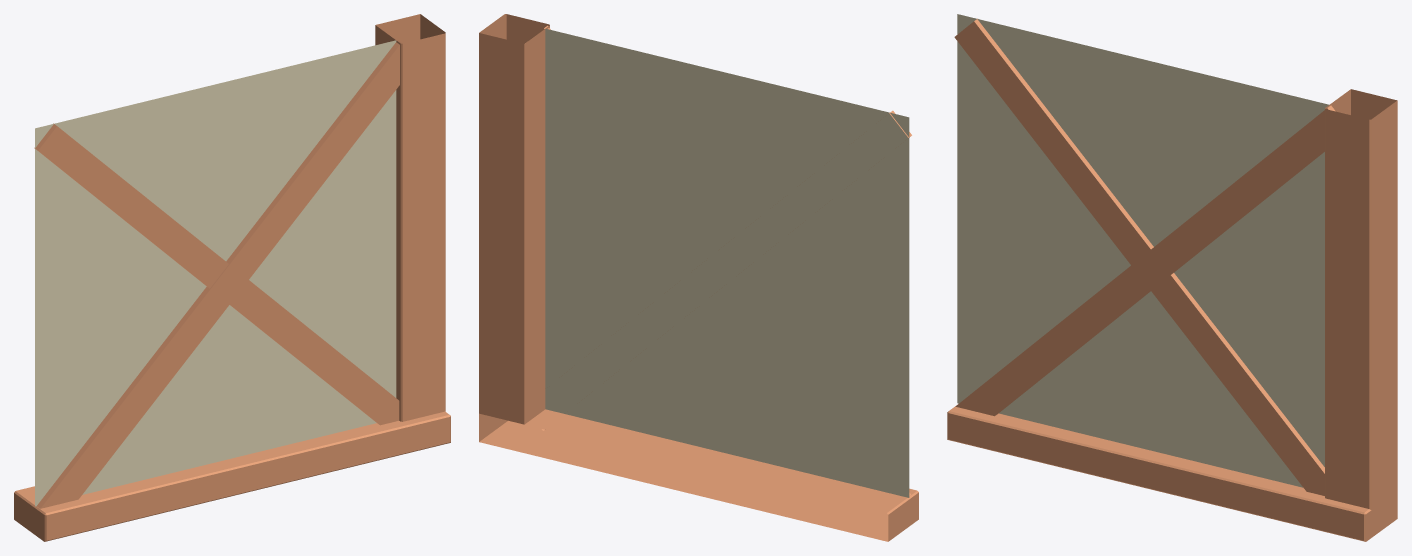
Rendered from Wall2_low.fbx.
3 renders of one model, left to right at view 1: azimuth 30°, elevation 25°; view 2: azimuth 150°, elevation 25°; view 3: azimuth 330°, elevation 25°, orthographic. The views are drawn at different scales.
Visible parts, largest first — view 1: Wall2_low, Wall2_plank1_low, Wall2_plank2_low; view 2: Wall2_low, Wall2_plank1_low; view 3: Wall2_low, Wall2_plank1_low, Wall2_plank2_low.
Part boxes in pixels (x1=…): Wall2_low: x1=35, y1=40, x2=396, y2=506; Wall2_plank1_low: x1=14, y1=14, x2=450, y2=541; Wall2_plank2_low: x1=34, y1=40, x2=401, y2=508; Wall2_low: x1=545, y1=28, x2=909, y2=497; Wall2_plank1_low: x1=479, y1=14, x2=918, y2=541; Wall2_low: x1=957, y1=14, x2=1328, y2=487; Wall2_plank1_low: x1=947, y1=89, x2=1397, y2=541; Wall2_plank2_low: x1=954, y1=18, x2=1335, y2=495.
Size of the model in its own units: 450 by 430 by 60.
